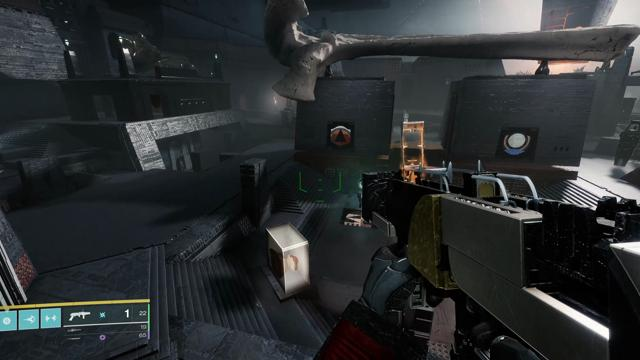pyramid: (330, 125, 352, 147)
traveler: (502, 131, 531, 156)
